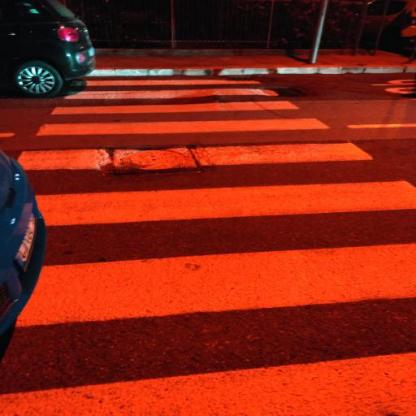crosswalk: (11, 116, 378, 179), (58, 78, 284, 102)
